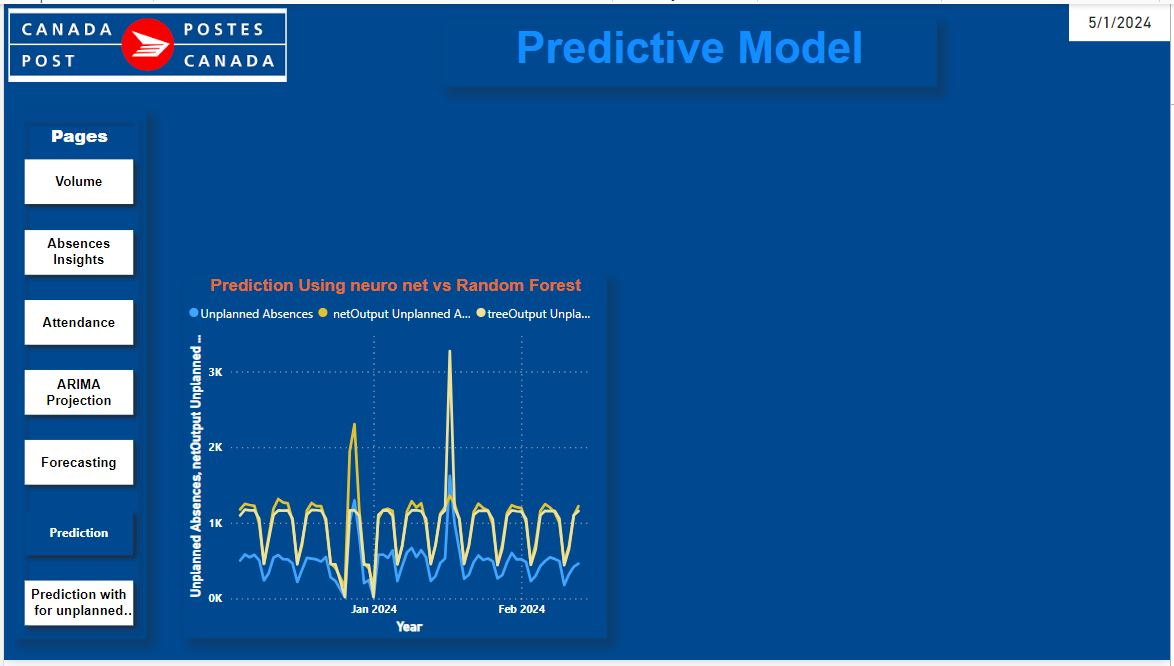

The page's visual inventory and layout, read from the dashboard file:
{"tool":"powerbi","page":{"name":"Prediction","canvas":[1280,720],"ordinal":5},"visuals":[{"type":"image","box":[0,0,315.8,90.4],"z":0},{"type":"textbox","box":[482.3,15.8,542.5,74.6],"z":1000},{"type":"card","fields":{"Values":["Date.TodayDate"]},"box":[1168.9,0,111.1,41.2],"z":2000},{"type":"actionButton","box":[10,116.3,146.4,579.9],"z":3000},{"type":"pageNavigator","title":"Pages","box":[14.4,130.6,137.8,561.2],"z":4000},{"type":"lineChart","title":"Prediction Using neuro net vs Random Forest","fields":{"Y":["Sum(DATA.Unplanned Absences)","Sum(DATA.netOutput (2).Unplanned Absences)","Sum(DATA.treeOutput.Unplanned Absences)"],"Category":["Date.CALENDAR_DATE.Variation.Date Hierarchy.Year","Date.CALENDAR_DATE.Variation.Date Hierarchy.Quarter","Date.CALENDAR_DATE.Variation.Date Hierarchy.Month","Date.CALENDAR_DATE.Variation.Date Hierarchy.Day"]},"box":[197.1,297.1,464.3,398.6],"z":5000}]}

Visuals, with their boxes in screenshot pixels (x1, y1, x2, y2), scaled from the page's 1280x720 canvas onto the 1174x666 screenshot:
image: 0:0:290:84
textbox: 442:15:940:84
card - Date.TodayDate: 1072:0:1173:38
actionButton: 9:108:143:644
"Pages" pageNavigator: 13:121:140:640
"Prediction Using neuro net vs Random Forest" lineChart: 181:275:607:644
